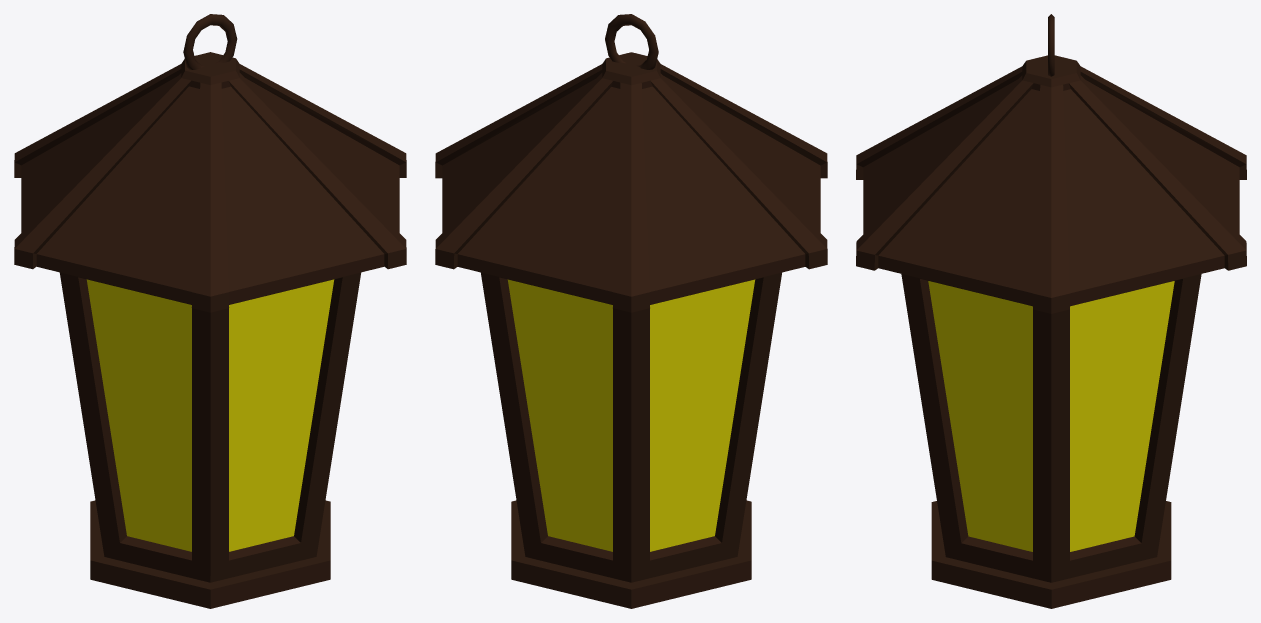
File: Lampara.fbx
3 renders of one model, left to right at view 1: azimuth 30°, elevation 25°; view 2: azimuth 150°, elevation 25°; view 3: azimuth 270°, elevation 25°, orthographic.
Parts seen in each view (by area): view 1: Cylinder001; view 2: Cylinder001; view 3: Cylinder001.
Boxes of the visible parts, x1=… form: Cylinder001: x1=14, y1=14, x2=406, y2=608; Cylinder001: x1=435, y1=14, x2=827, y2=608; Cylinder001: x1=856, y1=14, x2=1246, y2=608.
Size of the model in its own units: 25.14 by 32.84 by 21.77.
